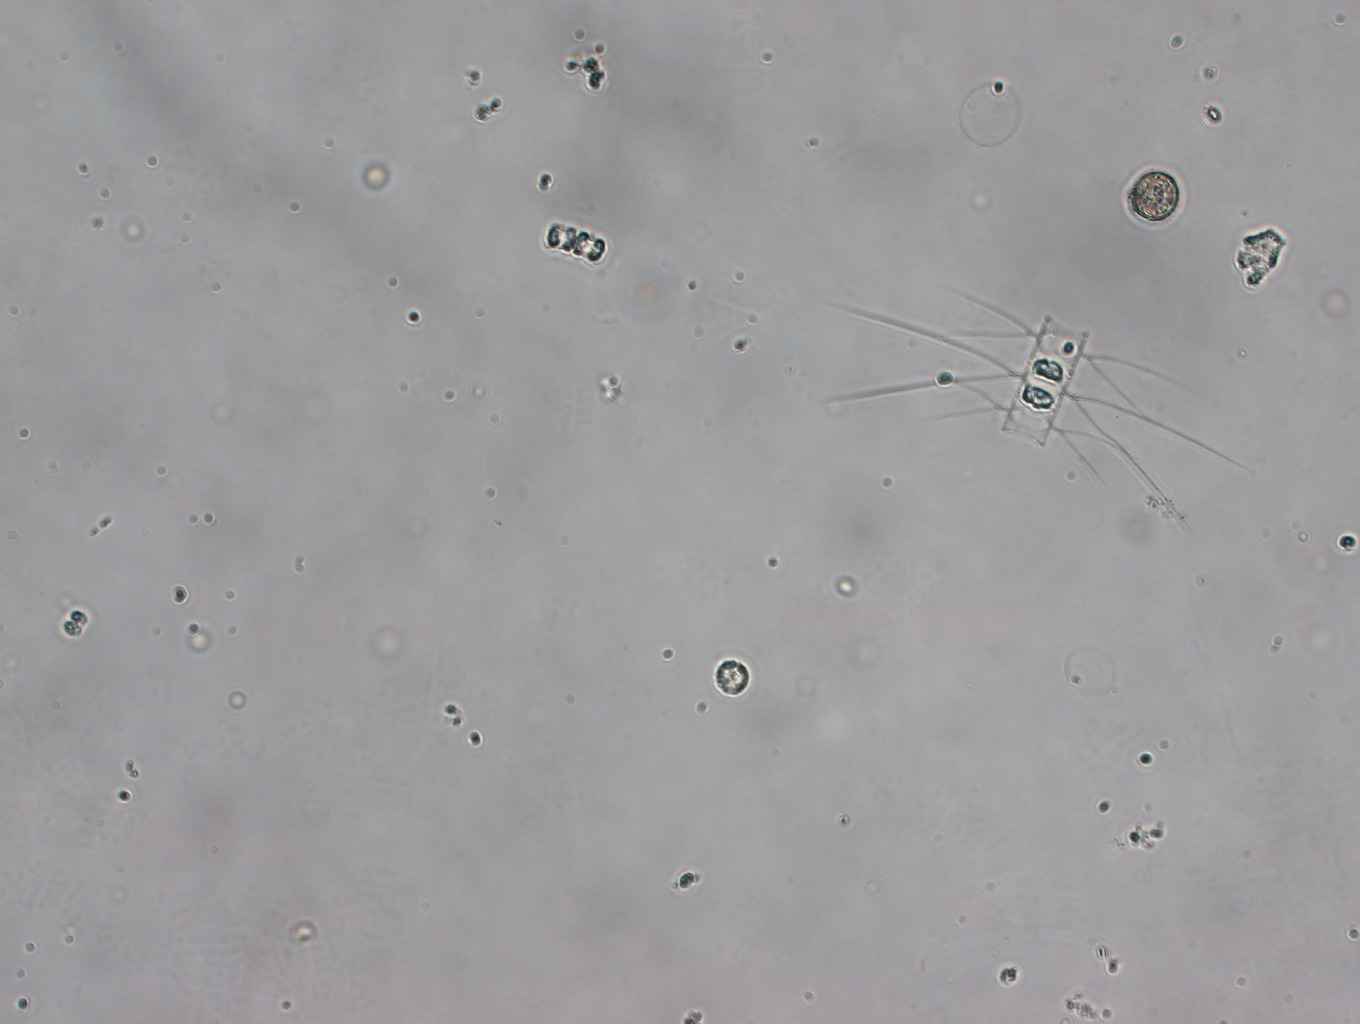chaetoceros: (806, 245, 1255, 537)
skeletonema: (531, 209, 613, 276)
